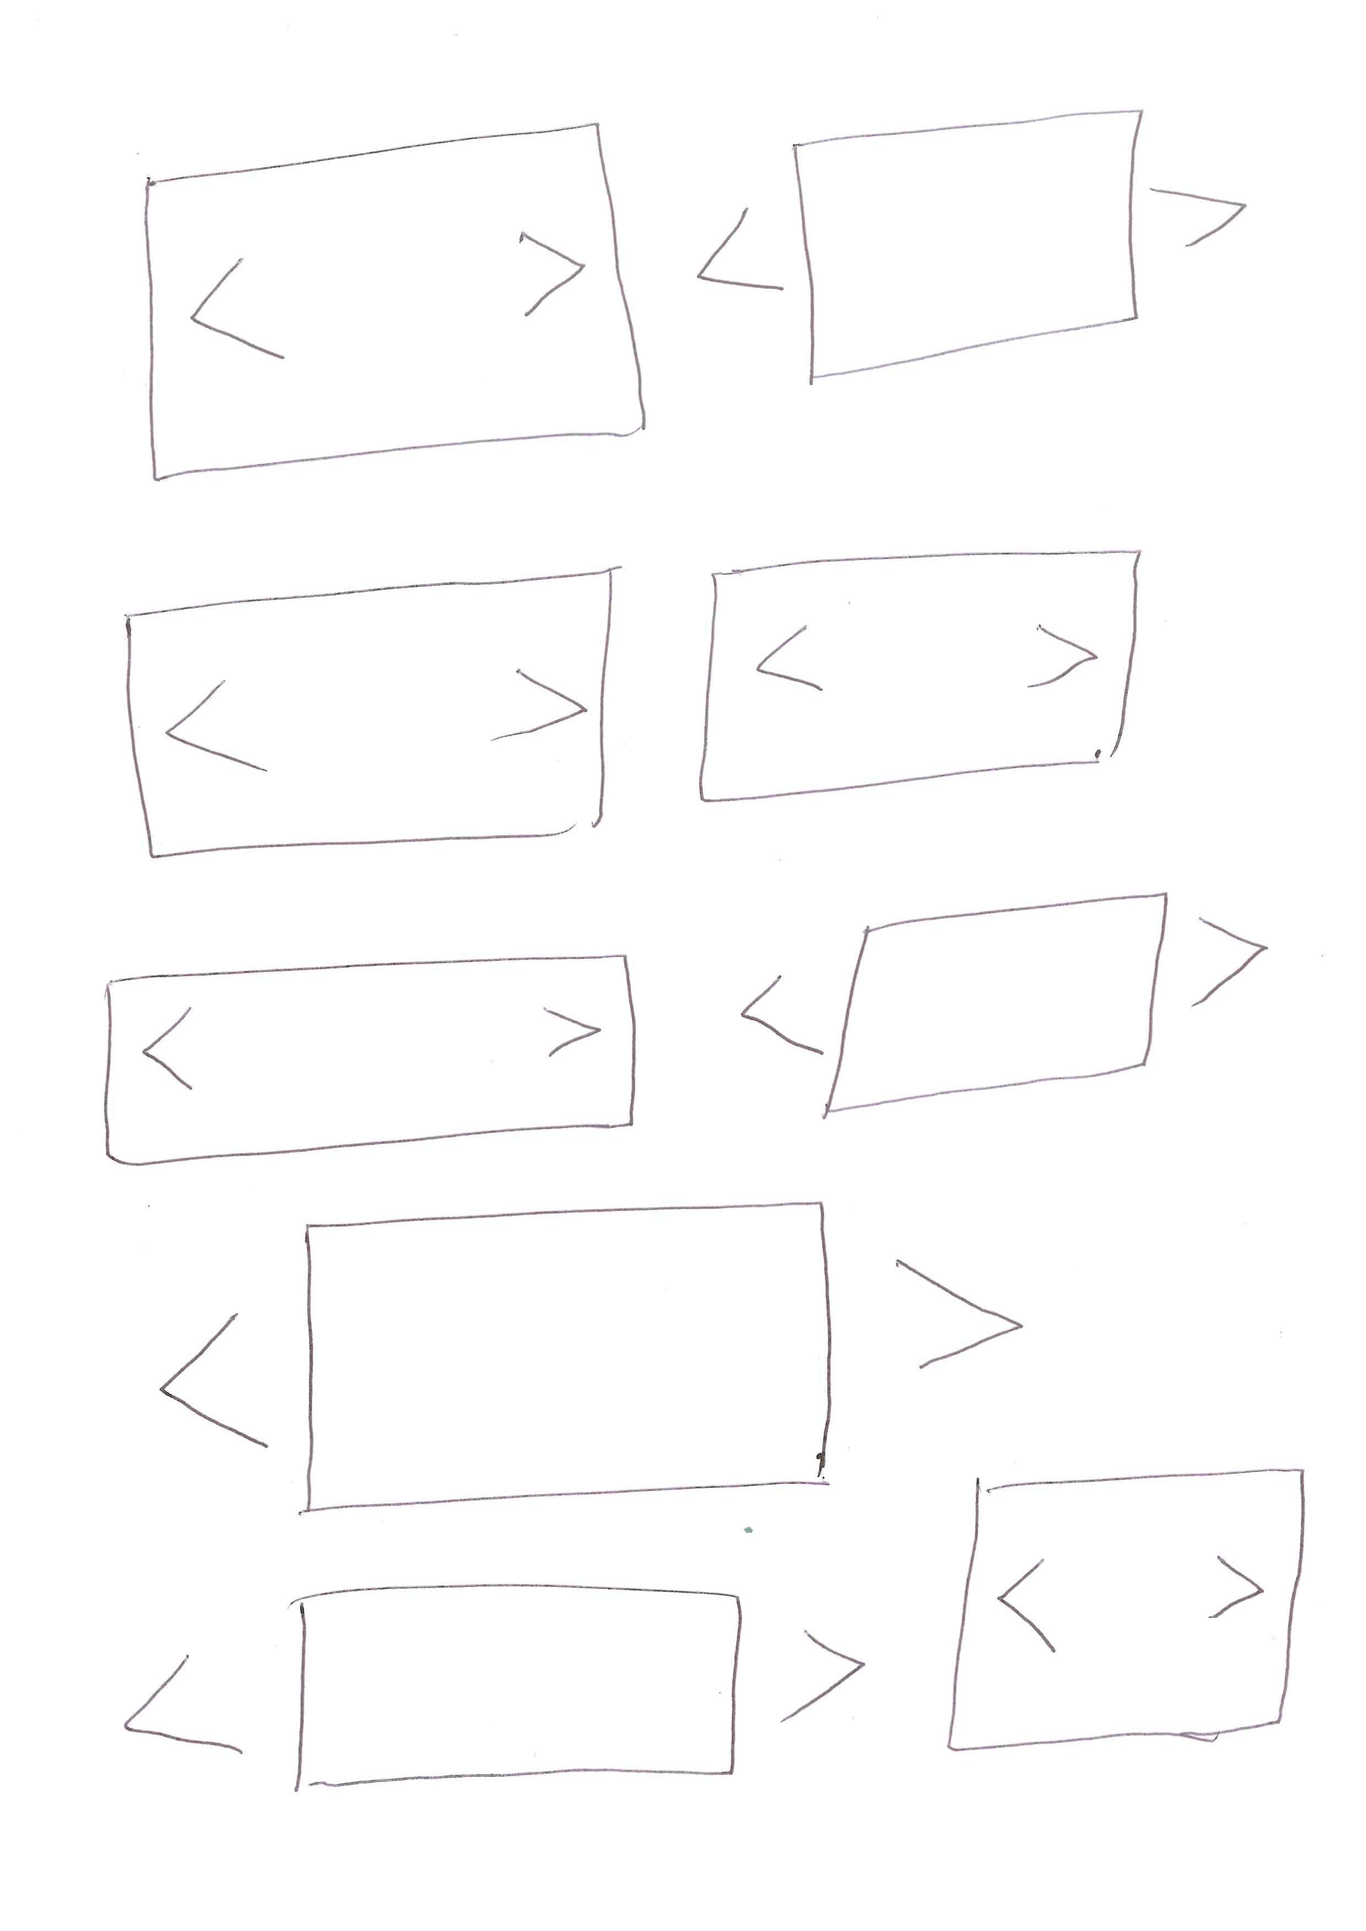Carousel: (157, 1198, 1019, 1493), (143, 114, 652, 483), (690, 105, 1255, 390), (121, 1581, 868, 1792), (123, 563, 616, 859), (736, 890, 1274, 1119), (102, 951, 639, 1167), (696, 546, 1146, 803), (943, 1462, 1311, 1757)
